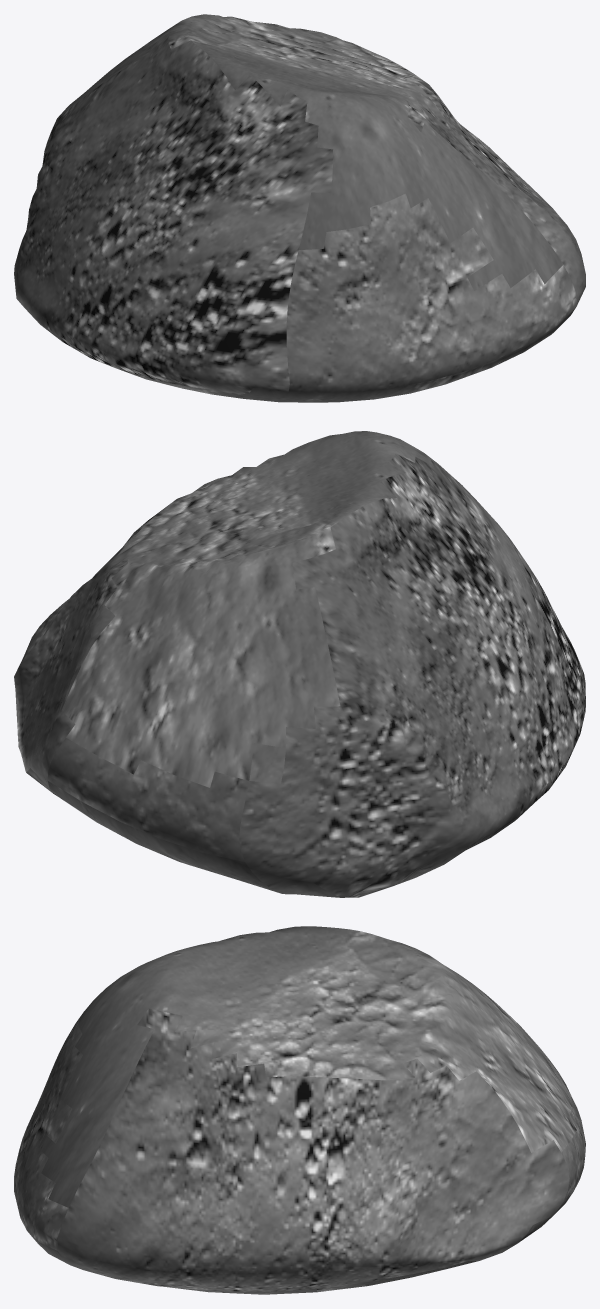
File: Rock4.obj
The picture shows the model from 3 angles, top to bottom: view 1: azimuth 30°, elevation 25°; view 2: azimuth 150°, elevation 25°; view 3: azimuth 270°, elevation 25°; orthographic projection. The views are drawn at different scales.
Parts seen in each view (by area): view 1: Rocks12; view 2: Rocks12; view 3: Rocks12.
Part boxes in pixels (x1,y1,x2,y2): Rocks12: (14,14,585,402); Rocks12: (14,431,585,897); Rocks12: (14,926,585,1294).
Size of the model in its own units: 0.7048 by 0.4709 by 0.7968.
1 material, 1 textured.
